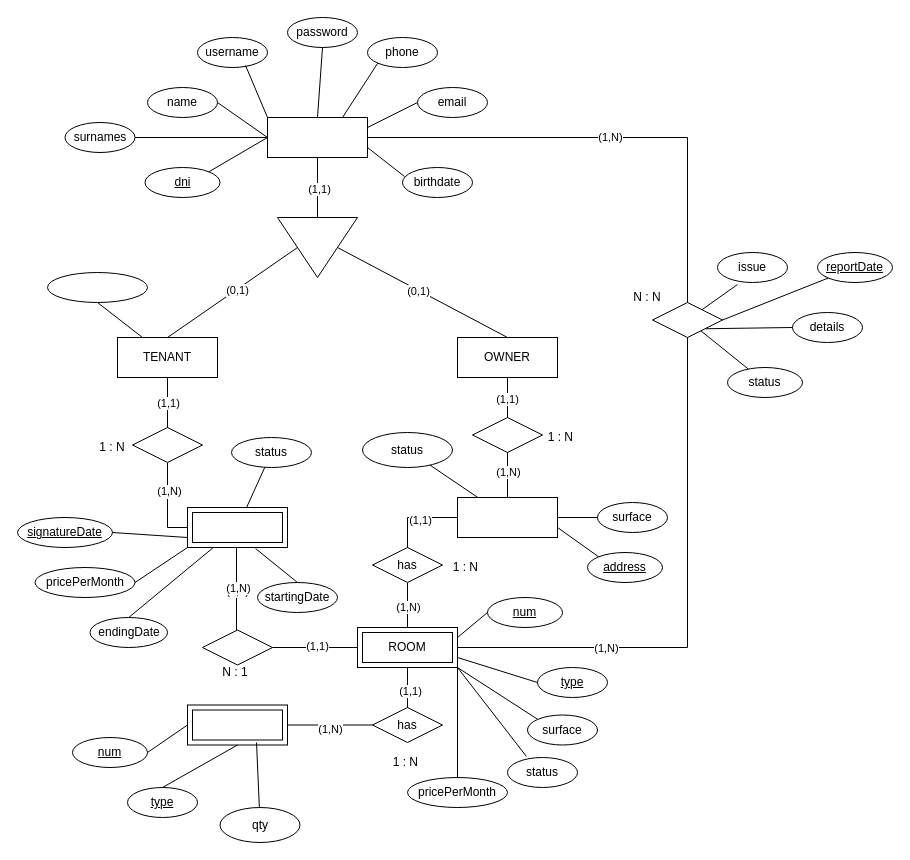
Image size: 910x860. Some labels were removed from this diagram. The shapes that lost their labels are listed below. From the top down, each one's centre as x and y in pixels, then its label:
the point at 317,137: USER
the point at 317,247: IS A
the point at 97,287: studentLicense
the point at 687,320: reports
the point at 167,444: signs
the point at 507,434: owns
the point at 237,527: CONTRACT
the point at 507,517: PROPERTY
the point at 237,647: belongs
the point at 237,724: FURNITURE
